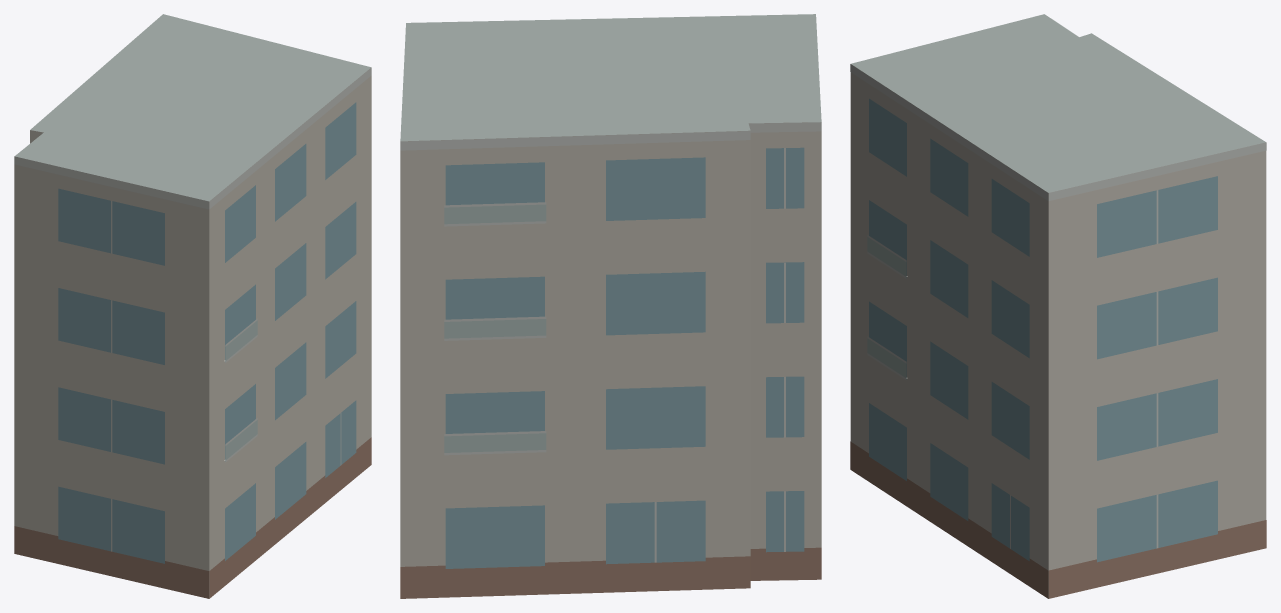
The model's file is survey-upis-32512389.glb.
3 views of the same model, side by side, from view 1: azimuth 30°, elevation 25°; view 2: azimuth 150°, elevation 25°; view 3: azimuth 270°, elevation 25° (orthographic). The views are drawn at different scales.
Parts seen in each view (by area): view 1: survey-upis-32512389.tmp; view 2: survey-upis-32512389.tmp; view 3: survey-upis-32512389.tmp.
Boxes of the visible parts, x1,y1,x2,y2 form: survey-upis-32512389.tmp: (14, 14, 371, 598); survey-upis-32512389.tmp: (400, 14, 821, 598); survey-upis-32512389.tmp: (850, 14, 1266, 598).
Size of the model in its own units: 11.36 by 12 by 11.15.
